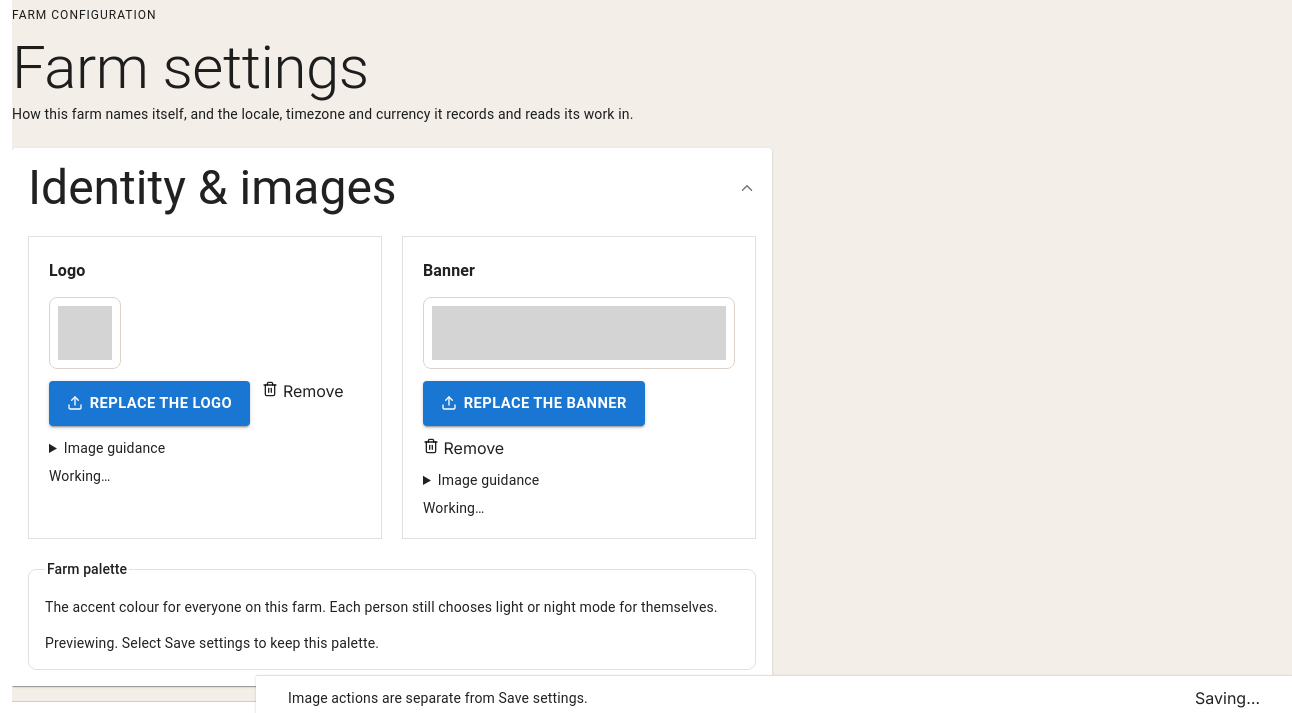
Scenario: SettingsPage expandable sections › collapses and re-expands the Identity & images section on click
Click the button "Identity & images" at [392, 188], box [12,148,772,228]
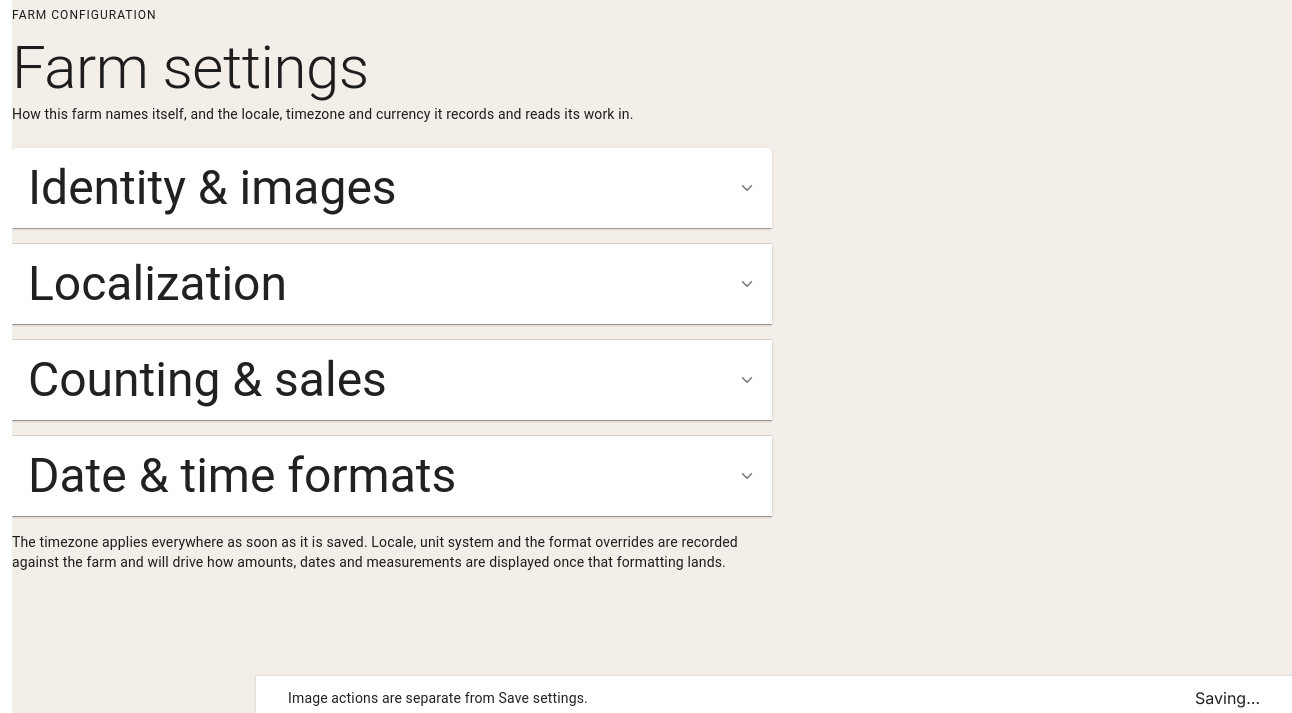
Result: the button "Identity & images" is collapsed
Click the button "Identity & images" at [392, 188], box [12,148,772,228]
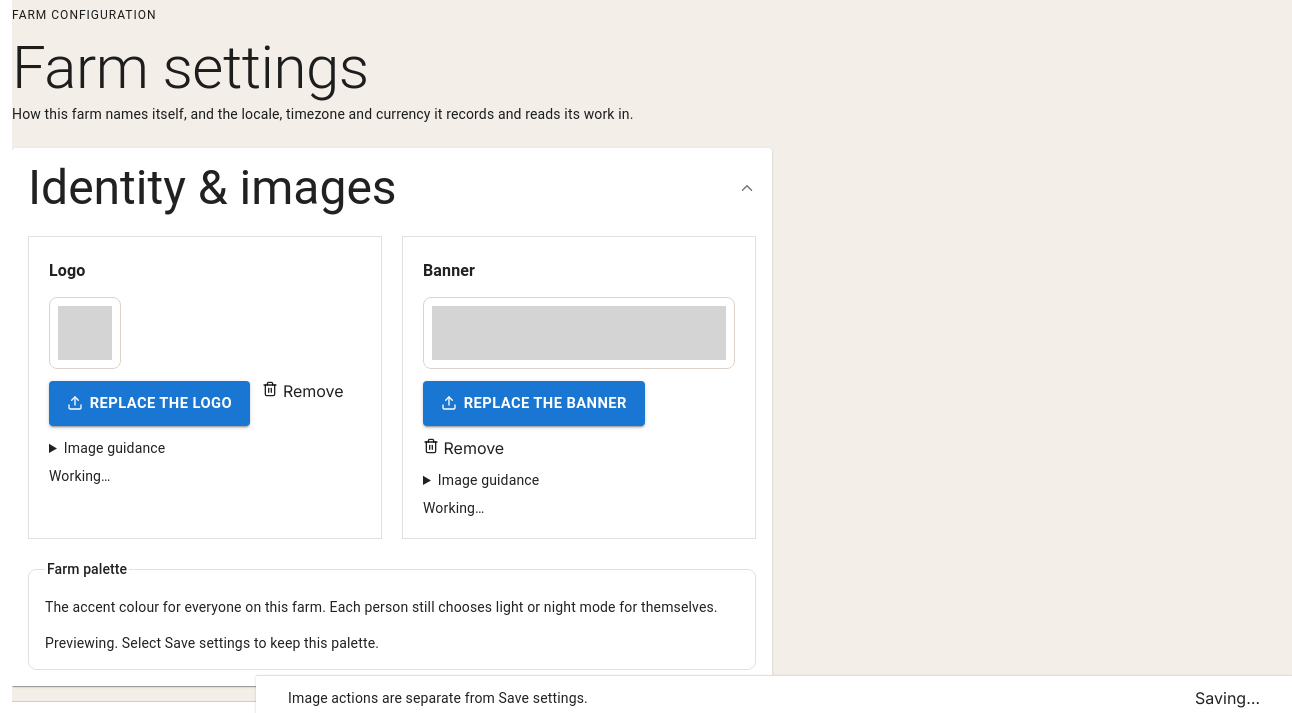
Result: the button "Identity & images" is expanded at [12,148,772,228]
